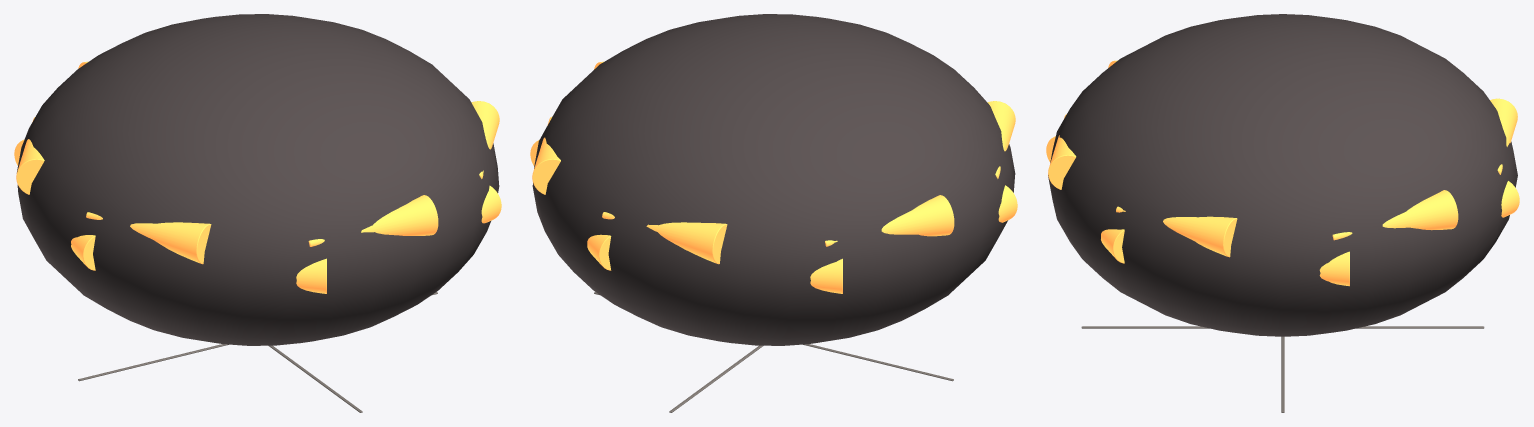
File: SM_PLT_CINDER_THORN.fbx
The picture shows the model from 3 angles, left to right: view 1: azimuth 30°, elevation 25°; view 2: azimuth 150°, elevation 25°; view 3: azimuth 270°, elevation 25°; orthographic projection. The views are drawn at different scales.
Visible parts, largest first — view 1: SM_PLT_CINDER_THORN; view 2: SM_PLT_CINDER_THORN; view 3: SM_PLT_CINDER_THORN.
Part boxes in pixels (x1=…): SM_PLT_CINDER_THORN: x1=14, y1=14, x2=501, y2=412; SM_PLT_CINDER_THORN: x1=530, y1=14, x2=1017, y2=412; SM_PLT_CINDER_THORN: x1=1046, y1=14, x2=1519, y2=412.
Size of what is drawn, in the model's own units: 0.7054 by 0.461 by 0.7054.
